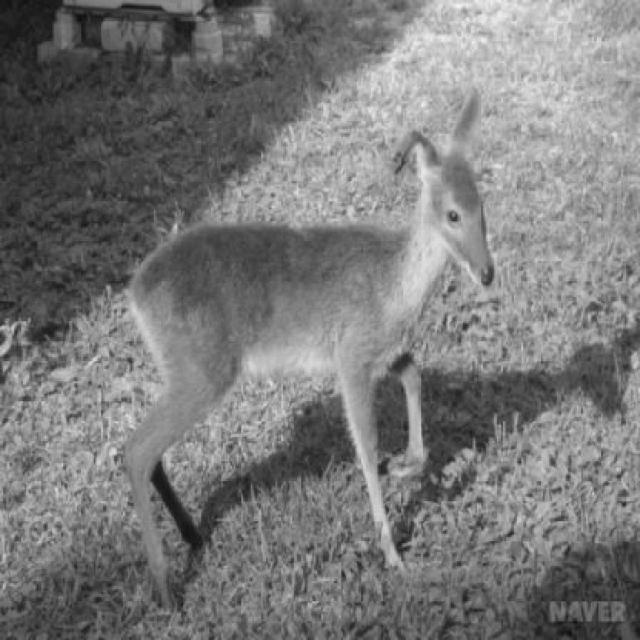Deer: (118, 88, 498, 620)
